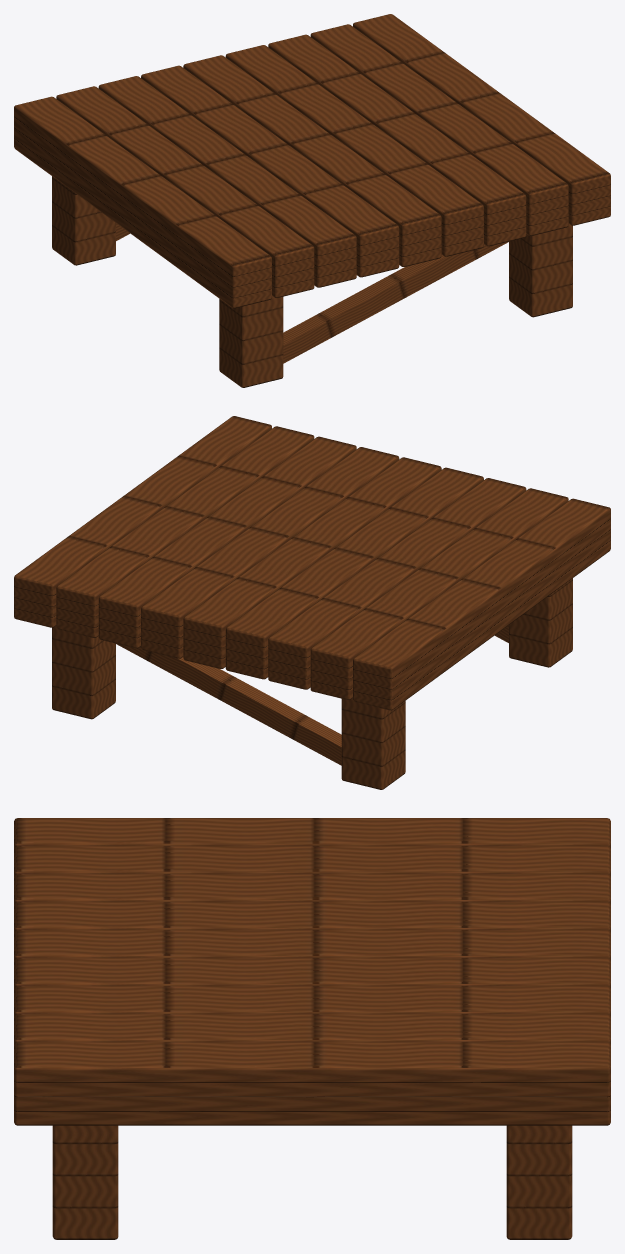
The model's file is modular-survival-base-builder-cantilever-foundation-3b1d2b87__24140.glb.
The picture shows the model from 3 angles, top to bottom: view 1: azimuth 30°, elevation 25°; view 2: azimuth 150°, elevation 25°; view 3: azimuth 270°, elevation 25°; orthographic projection. The views are drawn at different scales.
Visible parts, largest first — view 1: cantilever-foundation; view 2: cantilever-foundation; view 3: cantilever-foundation.
Part boxes in pixels (left/top/right/bottom): cantilever-foundation: left=14, top=14, right=610, bottom=387; cantilever-foundation: left=14, top=416, right=610, bottom=789; cantilever-foundation: left=14, top=818, right=610, bottom=1239.
Size of the model in its own units: 1.99 by 0.7 by 2.
1 material, 1 textured.
